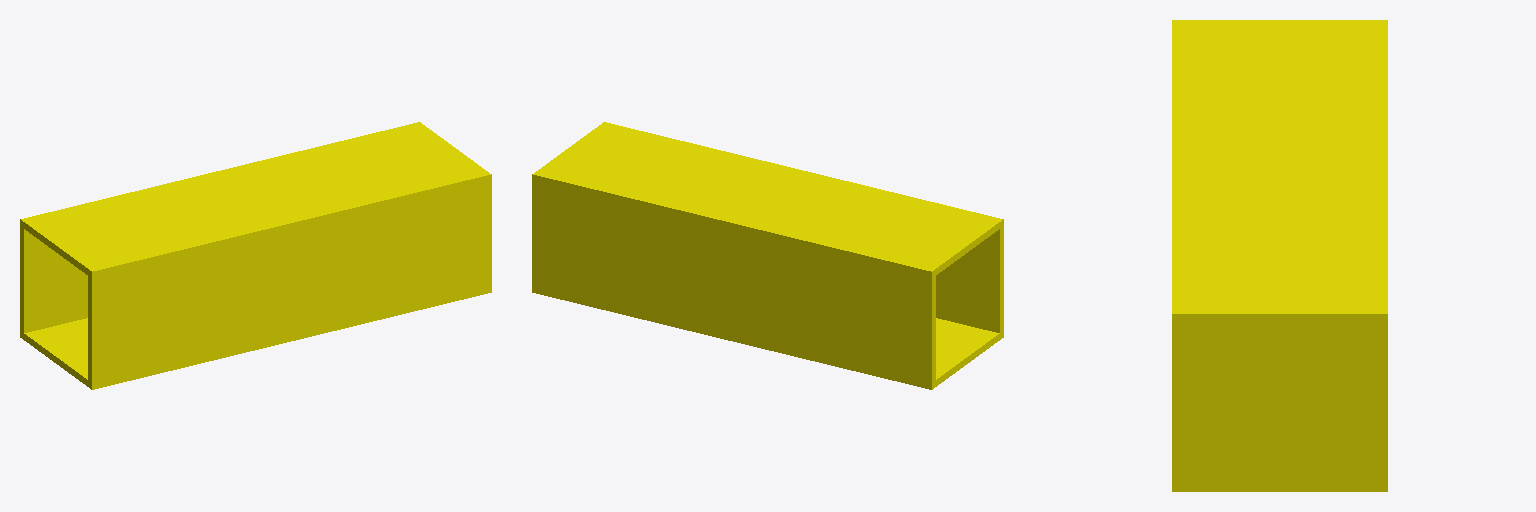
The robot description file, URDF, robot "lipton.urdf":
<?xml version="0.0" ?>
<robot name="lipton.urdf">
  <link name="baseLink">
    <contact>
      <lateral_friction value="1.0"/>
      <inertia_scaling value="3.0"/>
    </contact>
    <inertial>
      <origin rpy="0 0 0" xyz="0 0 0"/>
       <mass value=".2"/>
       <inertia ixx="0.1" ixy="0" ixz="0" iyy="0.1" iyz="0" izz="0.1"/>
    </inertial>
    <visual>
      <origin rpy="0 0 0" xyz="0 0 0"/>
      <geometry>
        <mesh filename="lipton.stl" scale="1 1 1"/>
      </geometry>
      <material name="yellow">
        <color rgba="0.96 0.93 0.04 1"/>
      </material>
    </visual>
    <collision>
      <origin rpy="0 0 0" xyz="0 0 0"/>
      <geometry>
    <box size="0.005 0.005 0.005"/>
      </geometry>
    </collision>
  </link>
</robot>

--- Render facts (derived) ---
Views: 3 orthographic renders of the robot side by side, from view 1: azimuth 30°, elevation 25°; view 2: azimuth 150°, elevation 25°; view 3: azimuth 270°, elevation 25°.
Robot: lipton.urdf — 1 links, 0 joints (none); root link baseLink; default pose: every joint at zero.
Links seen in each view (by area): view 1: baseLink; view 2: baseLink; view 3: baseLink.
Link boxes in pixels (x1,y1,x2,y2): baseLink: [20, 122, 491, 389]; baseLink: [532, 122, 1003, 389]; baseLink: [1172, 20, 1387, 491].
Bounding box of the posed robot: 0.1498 × 0.0466 × 0.0424 m (x, y, z).
1 mesh visuals loaded from 1 distinct referenced files (1 binary STL).
